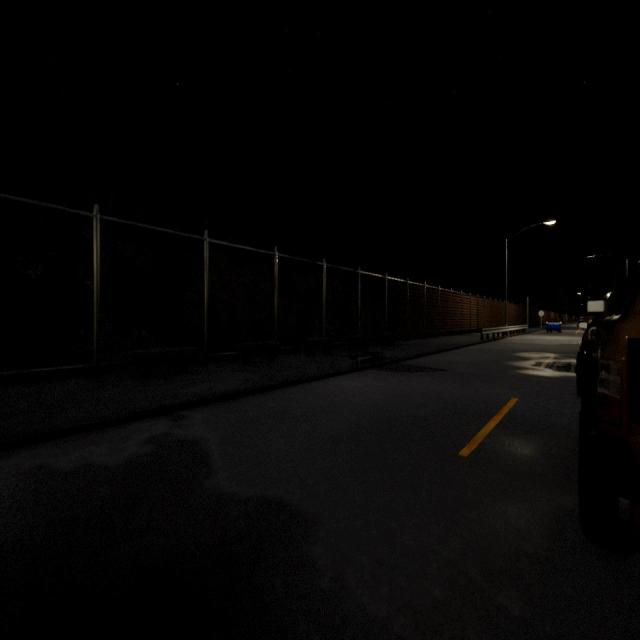Traffic_Signs: (538, 310, 544, 317)
Vehicle: (575, 269, 639, 556), (546, 316, 563, 334)
